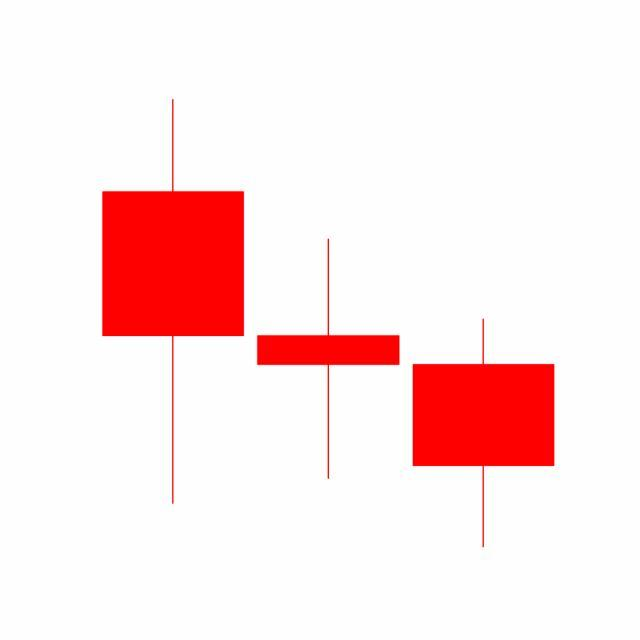Spinning Top: (250, 237, 407, 483)
